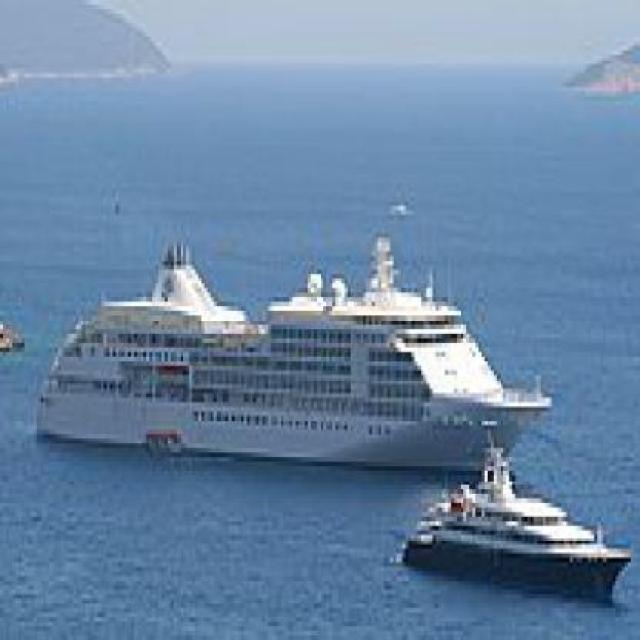cruise: (34, 211, 550, 473)
